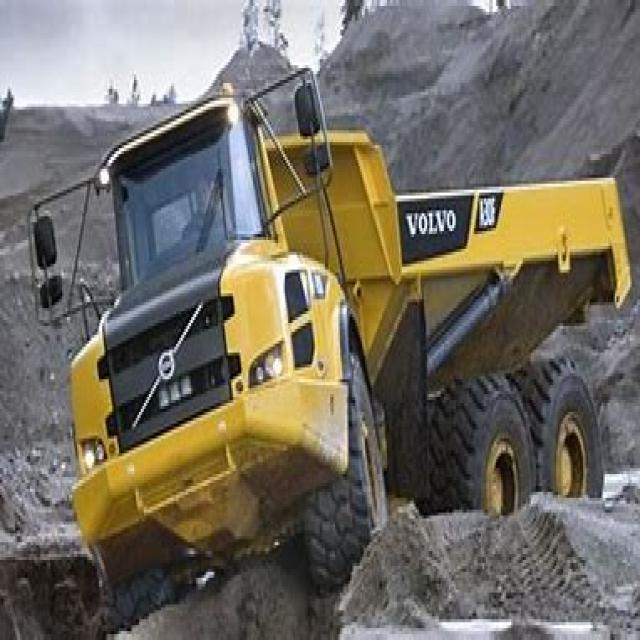dump_truck: (50, 74, 622, 596)
